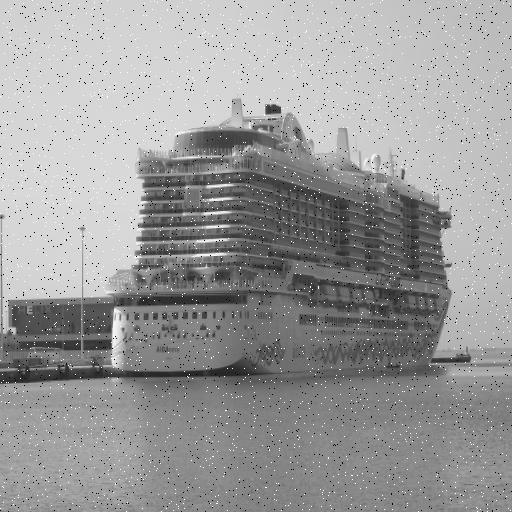cruises: (108, 92, 459, 386)
